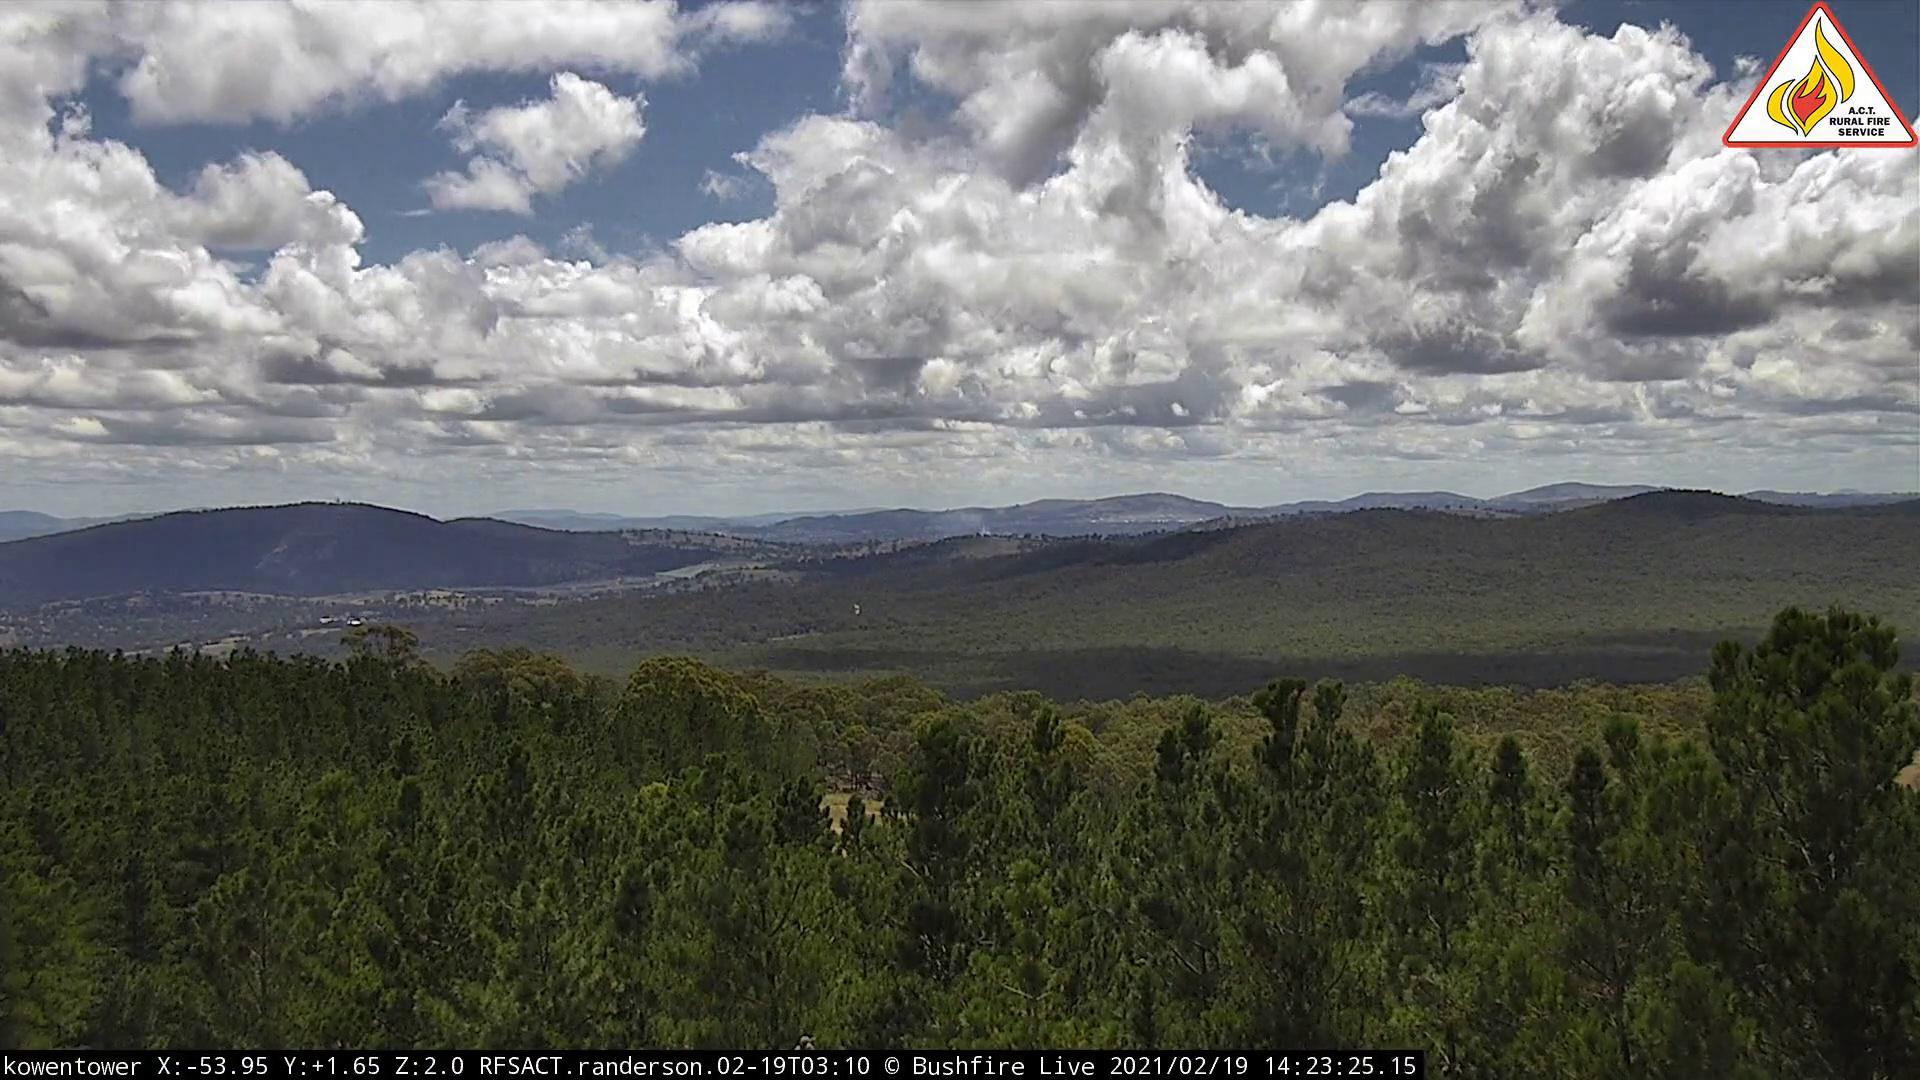Smoke: (945, 516, 1001, 550)
